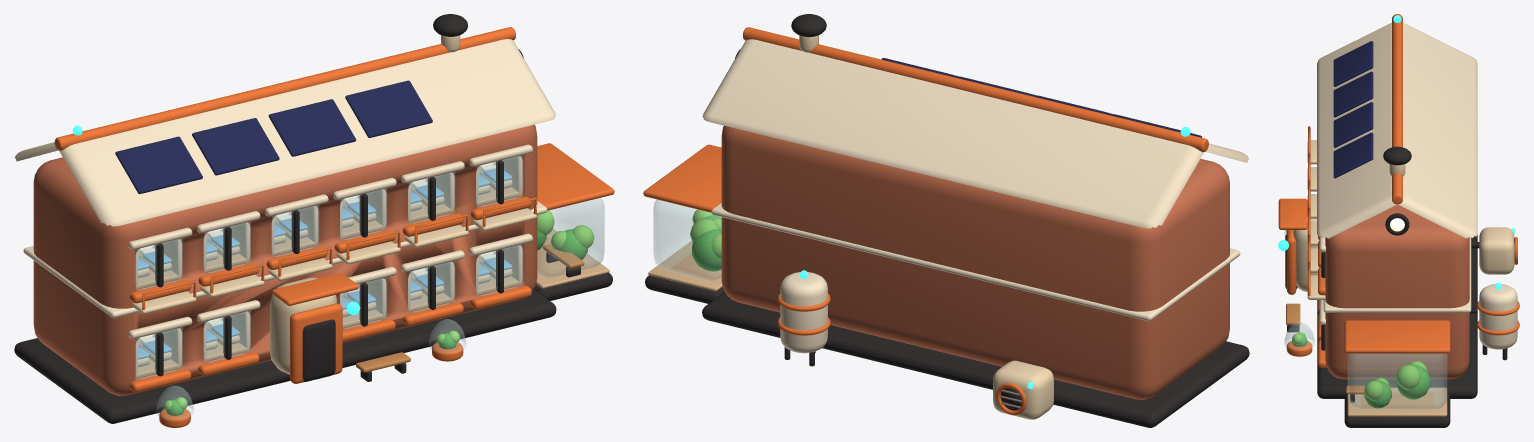
Rendered from brickhome-20.glb.
3 renders of one model, left to right at view 1: azimuth 30°, elevation 25°; view 2: azimuth 150°, elevation 25°; view 3: azimuth 270°, elevation 25°, orthographic. The views are drawn at different scales.
Visible parts, largest first — view 1: Cube.001, Cube.002, Cube.013, Cube.014, Cube, Cube.168, Cube.007, Cube.003, Cube.004, Cube.008, Sphere.017, Cube.178 (+1 smaller); view 2: Cube.001, Cube.002, Cube, Cube.014, Cube.013, Cube.007, Cube.004, Sphere.016, Cube.168, Sphere.017; view 3: Cube.002, Cube.001, Cube.014, Cube.013, Cube, Cube.168, Cube.007, Cube.004, Sphere.017, Sphere.016, Cube.178.
Part boxes in pixels (left/top/right/bottom): Cube.001: left=33, top=124, right=537, bottom=396; Cube.002: left=15, top=39, right=555, bottom=338; Cube.013: left=136, top=155, right=604, bottom=419; Cube.014: left=54, top=27, right=614, bottom=427; Cube: left=14, top=14, right=612, bottom=423; Cube.168: left=115, top=80, right=432, bottom=194; Cube.007: left=132, top=35, right=536, bottom=374; Cube.003: left=135, top=156, right=522, bottom=377; Cube.004: left=137, top=187, right=609, bottom=378; Cube.008: left=138, top=168, right=512, bottom=359; Sphere.017: left=163, top=210, right=594, bottom=411; Cube.178: left=356, top=244, right=584, bottom=372; Cube.001: left=721, top=125, right=1229, bottom=399; Cube.002: left=702, top=39, right=1248, bottom=353; Cube: left=645, top=14, right=1249, bottom=427; Cube.014: left=643, top=27, right=1208, bottom=415; Cube.013: left=653, top=199, right=721, bottom=280; Cube.007: left=799, top=35, right=1053, bottom=419; Cube.004: left=648, top=241, right=722, bottom=291; Sphere.016: left=692, top=215, right=721, bottom=271; Cube.168: left=881, top=58, right=1201, bottom=137; Sphere.017: left=690, top=209, right=721, bottom=258; Cube.002: left=1317, top=23, right=1517, bottom=349; Cube.001: left=1325, top=204, right=1469, bottom=379; Cube.014: left=1278, top=14, right=1519, bottom=367; Cube.013: left=1284, top=230, right=1447, bottom=409; Cube: left=1285, top=146, right=1514, bottom=427; Cube.168: left=1333, top=41, right=1373, bottom=178; Cube.007: left=1293, top=140, right=1514, bottom=299; Cube.004: left=1347, top=387, right=1447, bottom=416; Sphere.017: left=1292, top=332, right=1427, bottom=400; Sphere.016: left=1292, top=333, right=1430, bottom=408; Cube.178: left=1286, top=303, right=1390, bottom=394.
Bounding box in the file's own units: 3.09 × 1.57 × 1.51.
